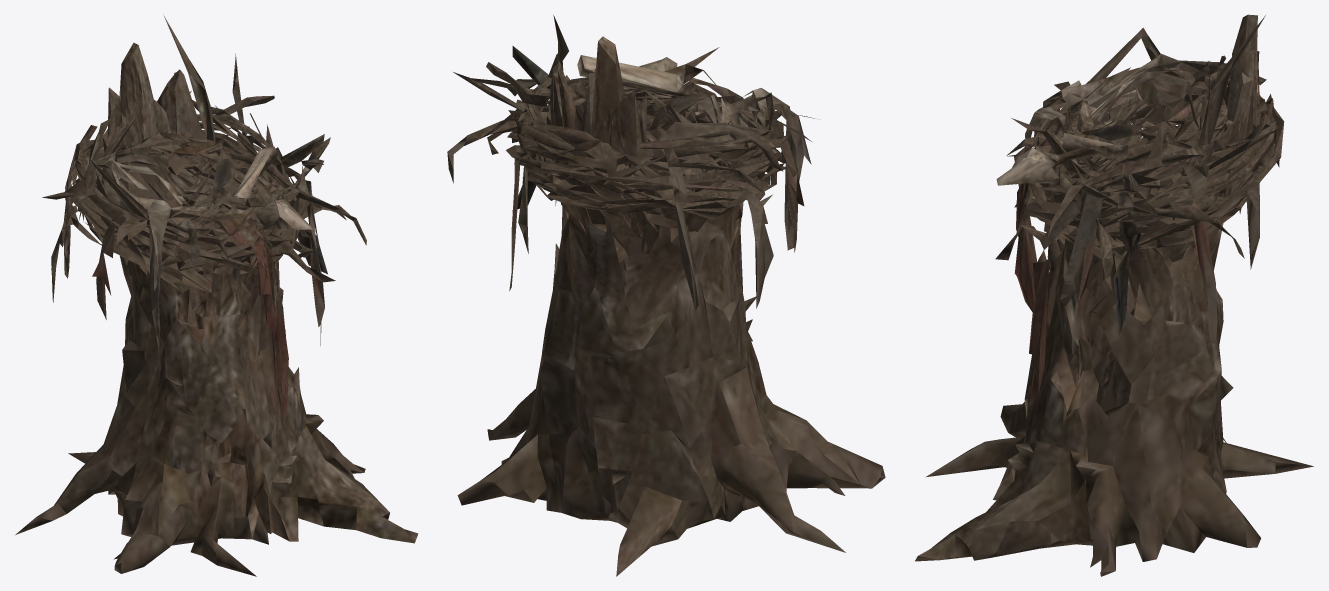
Rendered from mon_crownest.glb.
3 views of the same model, side by side, from view 1: azimuth 30°, elevation 25°; view 2: azimuth 150°, elevation 25°; view 3: azimuth 270°, elevation 25° (orthographic). The views are drawn at different scales.
Visible parts, largest first — view 1: mon_crownest; view 2: mon_crownest; view 3: mon_crownest.
Boxes of the visible parts, x1,y1,x2,y2 form: mon_crownest: (15, 14, 418, 576); mon_crownest: (447, 15, 885, 576); mon_crownest: (915, 14, 1313, 576).
Size of the model in its own units: 1.57 by 2.02 by 1.48.
Materials: 1 (1 with a texture image).
